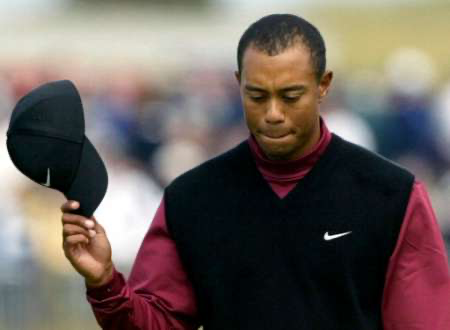Face: (232, 64, 321, 161)
